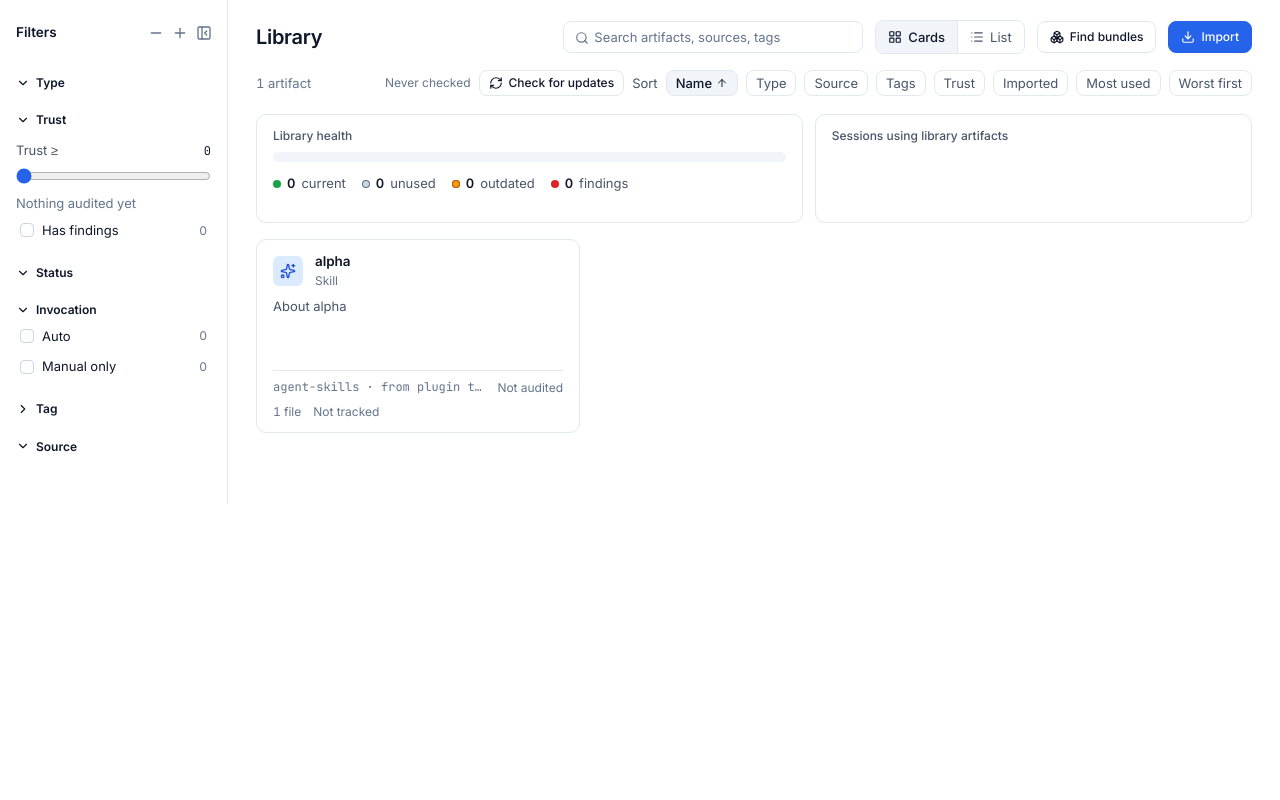
unpacked parts in the library › names the plugin in the detail panel
Click the button "alpha" at (333, 261), box top-left (256, 239), bottom-right (580, 433)
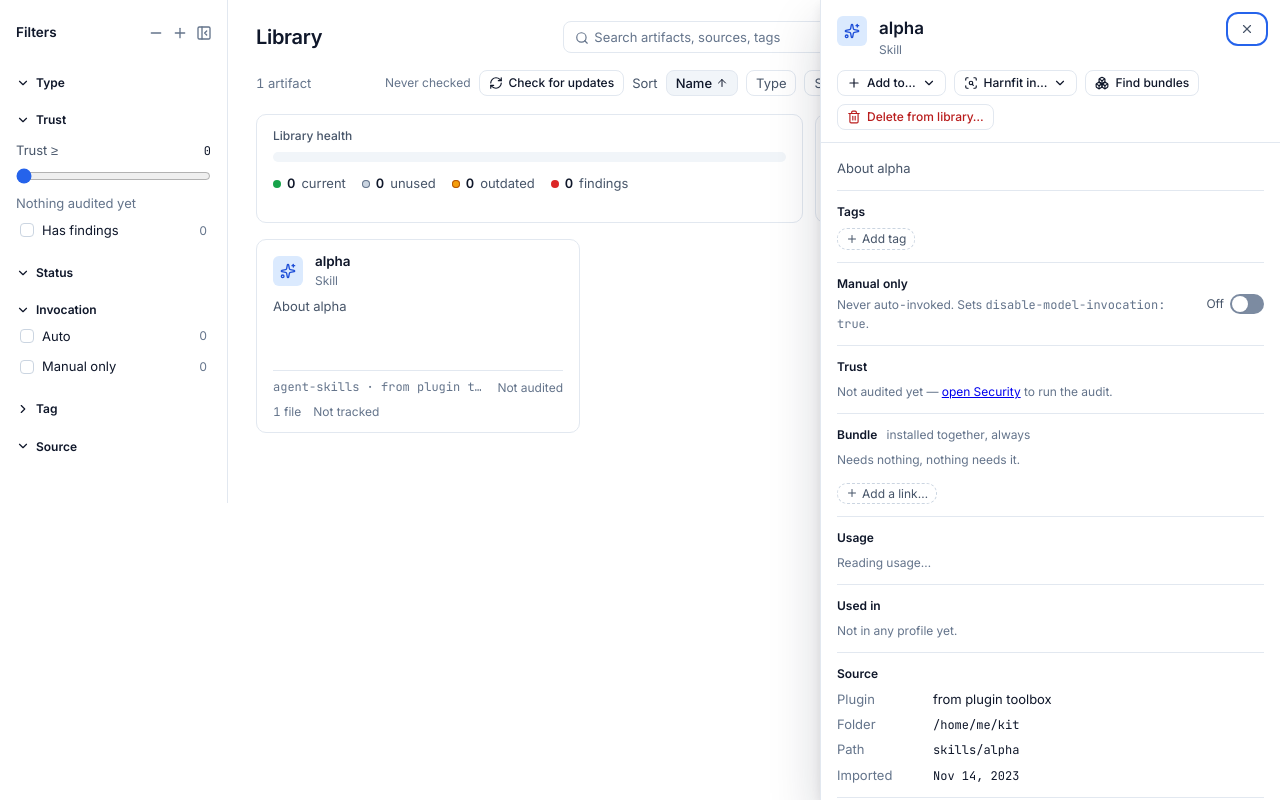
Now the text "from plugin toolbox" is shown, box top-left (933, 691), bottom-right (1052, 707)
